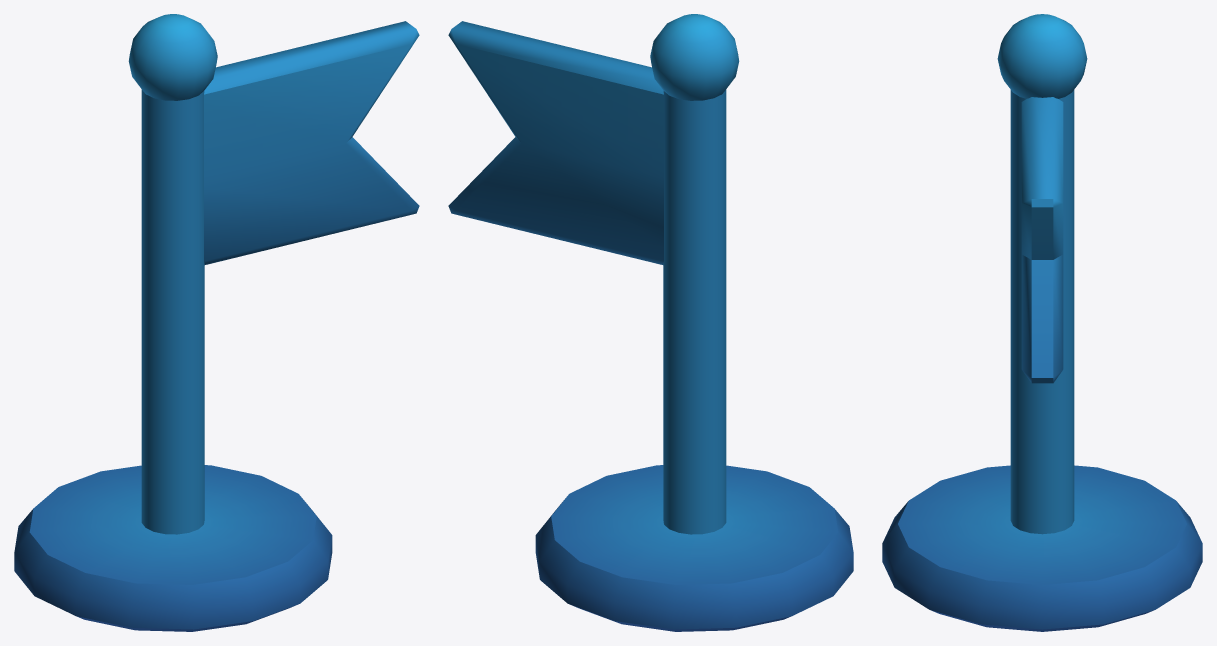
File: flag_B_blue.obj
3 renders of one model, left to right at view 1: azimuth 30°, elevation 25°; view 2: azimuth 150°, elevation 25°; view 3: azimuth 270°, elevation 25°, orthographic.
Visible parts, largest first — view 1: flag_B_blue; view 2: flag_B_blue; view 3: flag_B_blue.
Boxes of the visible parts, x1,y1,x2,y2 form: flag_B_blue: [14, 14, 419, 631]; flag_B_blue: [448, 14, 853, 631]; flag_B_blue: [882, 14, 1202, 631].
Size of the model in its own units: 1.03 by 1.43 by 0.75.
1 material, 1 textured.
